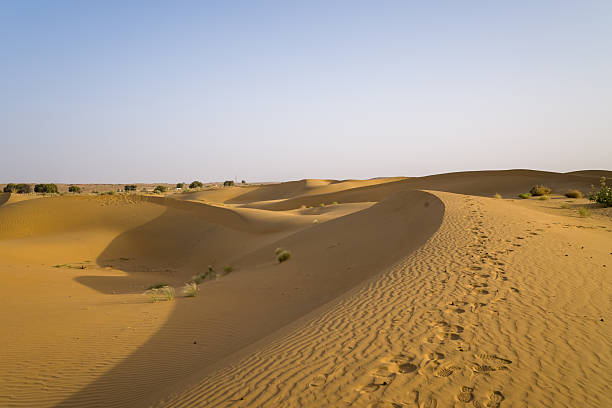human_footprint: (380, 224, 520, 406), (357, 352, 417, 393), (355, 363, 395, 393), (424, 320, 463, 343), (381, 352, 417, 373), (418, 350, 444, 377), (475, 352, 511, 368), (404, 390, 437, 407), (472, 391, 504, 407), (370, 364, 395, 383), (437, 323, 463, 339), (434, 362, 461, 377), (471, 363, 506, 373), (445, 300, 468, 313), (485, 391, 503, 407), (434, 332, 460, 343), (456, 386, 473, 402), (356, 382, 379, 393), (308, 374, 326, 388), (405, 389, 419, 407), (468, 282, 489, 294), (397, 362, 417, 373), (469, 301, 487, 313), (423, 350, 444, 360), (368, 401, 403, 407), (420, 397, 437, 407), (456, 341, 471, 352), (495, 270, 508, 281), (469, 265, 483, 272), (478, 273, 490, 278), (510, 287, 519, 293), (512, 243, 521, 246), (516, 236, 524, 239)
